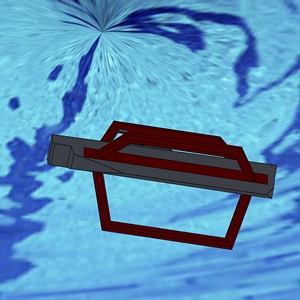submarine: (36, 96, 287, 270)
